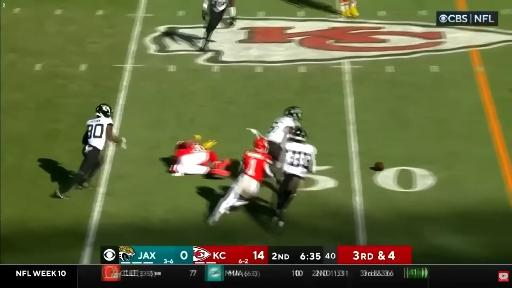Helmet: (253, 137, 269, 153), (290, 127, 307, 141), (284, 107, 302, 120), (96, 104, 112, 117)
Jersey: (283, 142, 316, 177), (267, 116, 299, 144), (243, 151, 271, 182), (87, 117, 113, 150), (175, 142, 205, 157), (210, 0, 227, 11)
Player: (55, 104, 125, 198), (208, 137, 272, 225), (274, 127, 316, 227), (266, 107, 302, 181), (170, 136, 230, 177), (200, 0, 236, 51), (340, 0, 359, 17)
